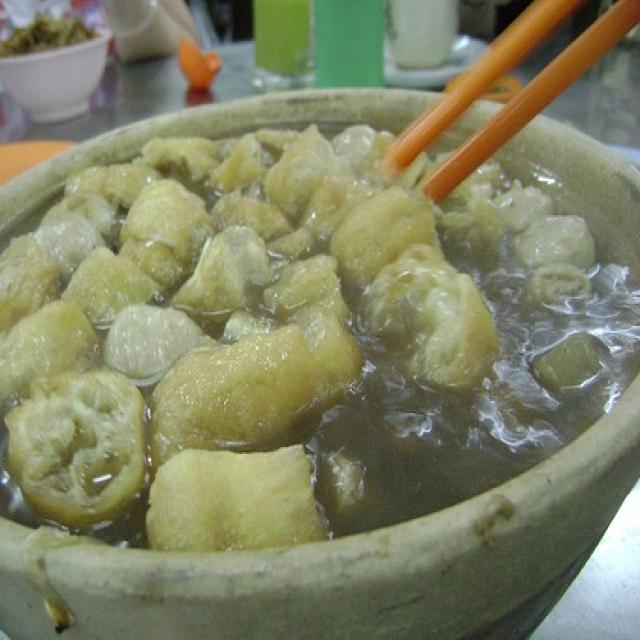汤锅炖物: (5, 87, 631, 548)
